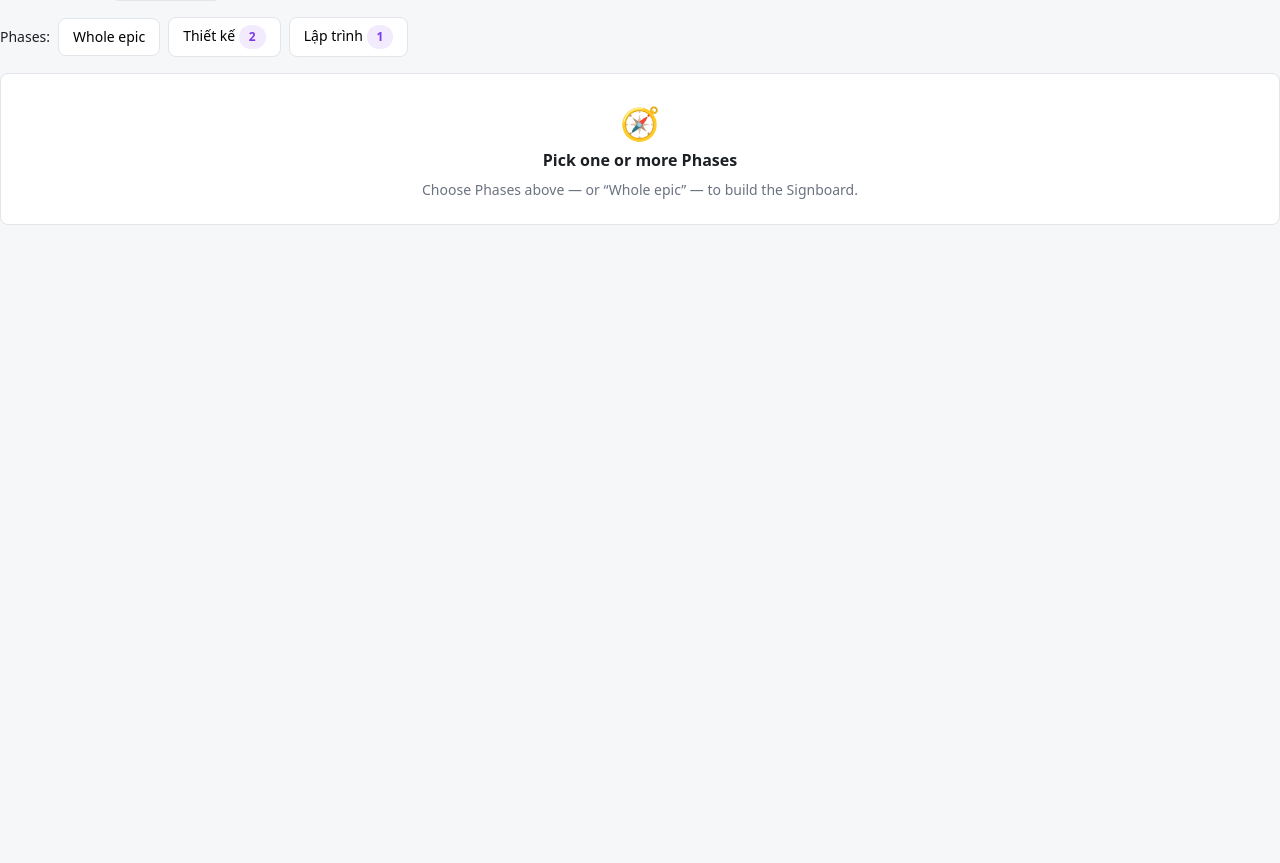
Test: SignboardScreen — chọn nhiều Phase › bấm “Whole epic” mở MỌI Phase của Epic
Check: the heading "Pick one or more Phases" is shown, box [543,149,737,171]
Click the button "Whole epic".
click(109, 37)  # box [58,18,160,56]
(page scrolled)
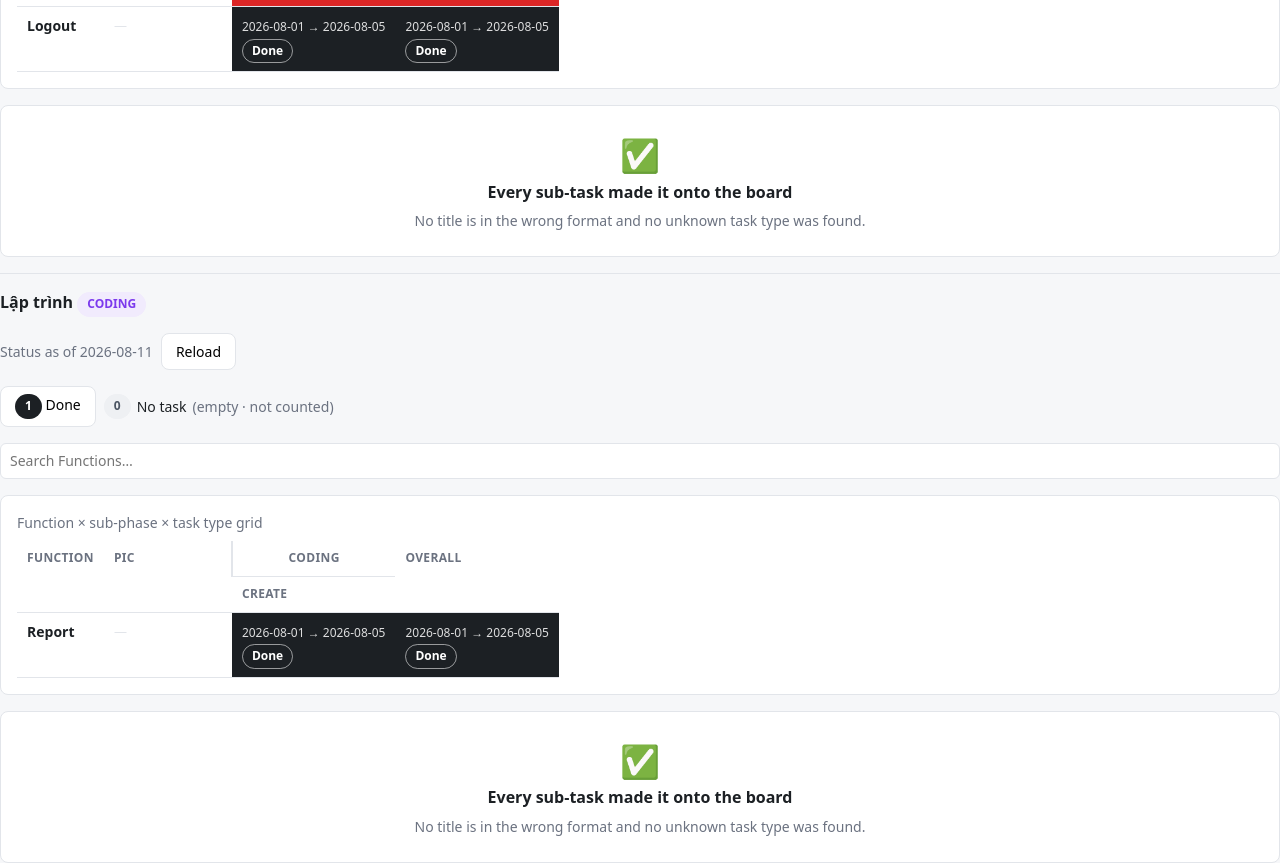
Check: the column heading "Report" is shown, box [17,612,104,677]
